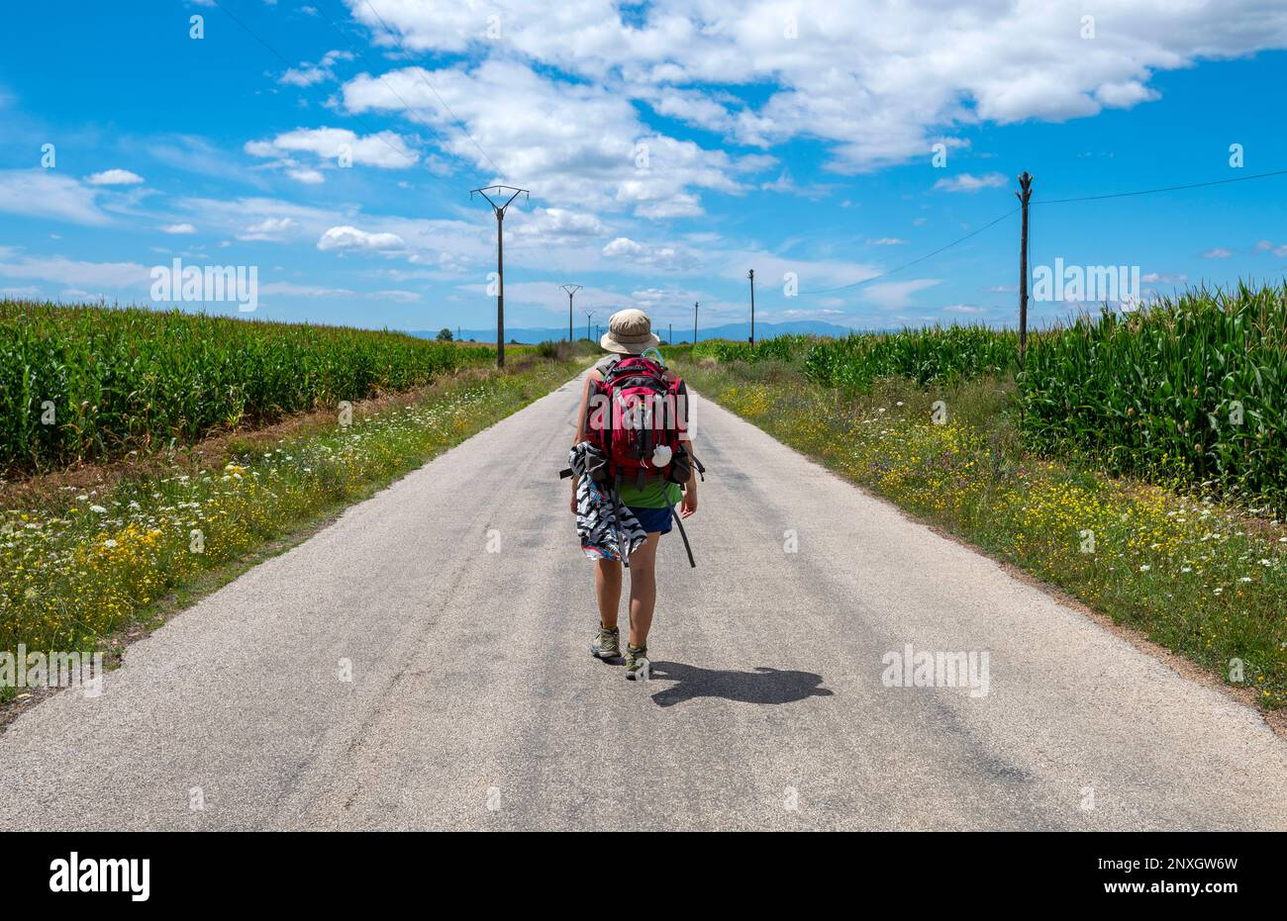Person: (559, 302, 699, 681)
